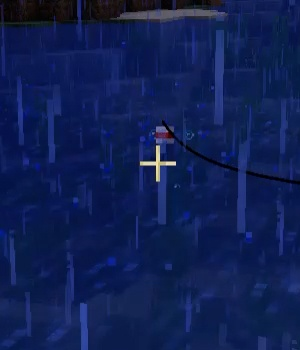up: (156, 121, 180, 155)
